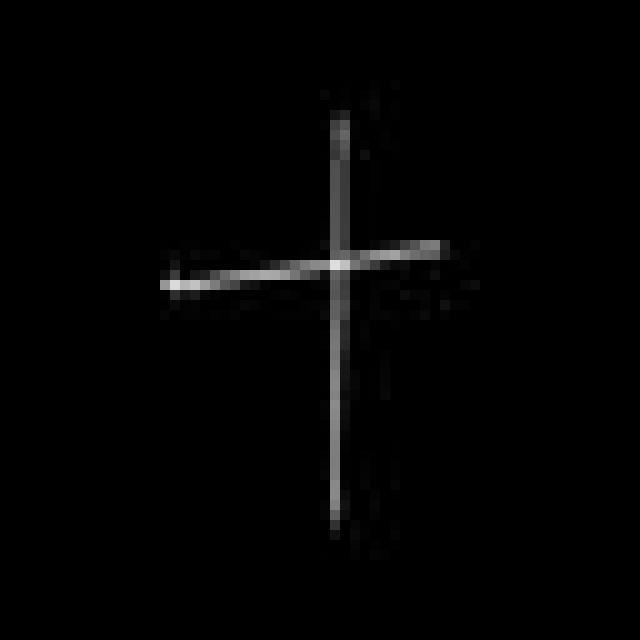10 -ten-: (149, 106, 452, 529)
